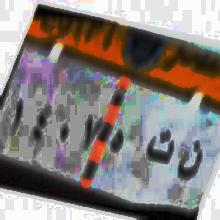0: (56, 118, 72, 150)
1: (8, 94, 25, 140)
4: (32, 104, 50, 146)
7: (81, 108, 103, 153)
haa: (108, 128, 126, 158)
noon: (178, 134, 204, 184)
taa: (144, 122, 174, 172)
